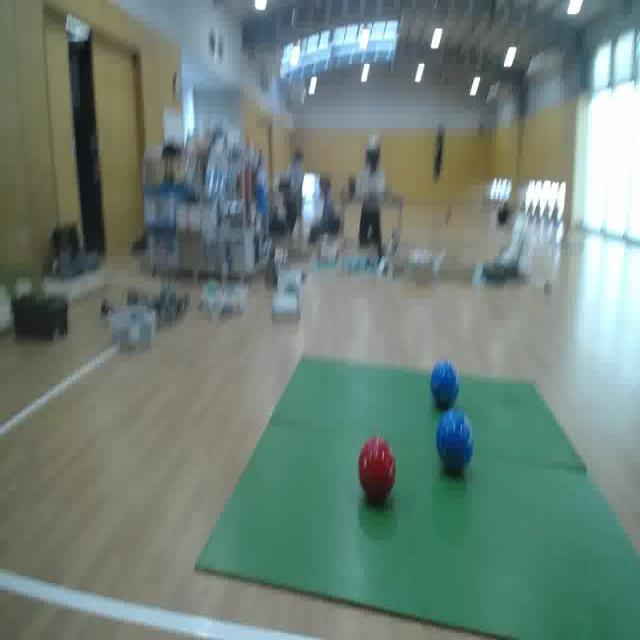blue_ball: (433, 409, 477, 478), (429, 360, 459, 410)
red_ball: (356, 432, 398, 505)
